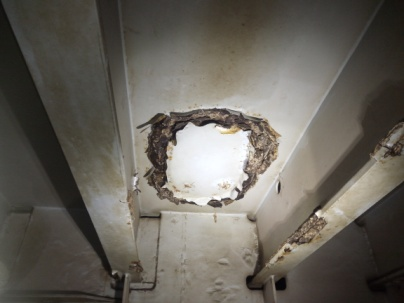corrosion: (205, 0, 279, 95), (140, 112, 175, 201), (168, 106, 267, 132), (252, 114, 278, 197), (158, 192, 254, 213), (288, 206, 325, 249), (380, 131, 404, 156), (271, 246, 297, 266)
